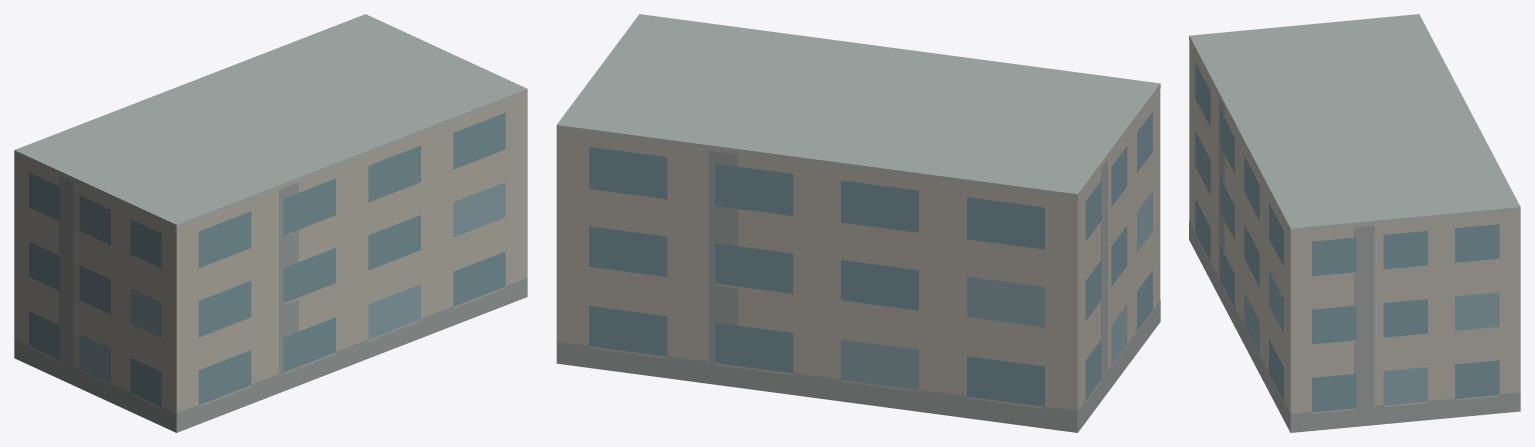
The model's file is residential-f7eec742-d8a6-4c07-8bad-6347769f3c46.glb.
3 views of the same model, side by side, from view 1: azimuth 30°, elevation 25°; view 2: azimuth 150°, elevation 25°; view 3: azimuth 270°, elevation 25° (orthographic). The views are drawn at different scales.
Visible parts, largest first — view 1: residential-f7eec742-d8a6-4c07-8bad-6347769f3c46.tmp; view 2: residential-f7eec742-d8a6-4c07-8bad-6347769f3c46.tmp; view 3: residential-f7eec742-d8a6-4c07-8bad-6347769f3c46.tmp.
Boxes of the visible parts, x1,y1,x2,y2 form: residential-f7eec742-d8a6-4c07-8bad-6347769f3c46.tmp: [14, 14, 527, 432]; residential-f7eec742-d8a6-4c07-8bad-6347769f3c46.tmp: [556, 14, 1160, 432]; residential-f7eec742-d8a6-4c07-8bad-6347769f3c46.tmp: [1189, 14, 1520, 432].
Bounding box in the file's own units: 22.98 × 10.2 × 15.01.
